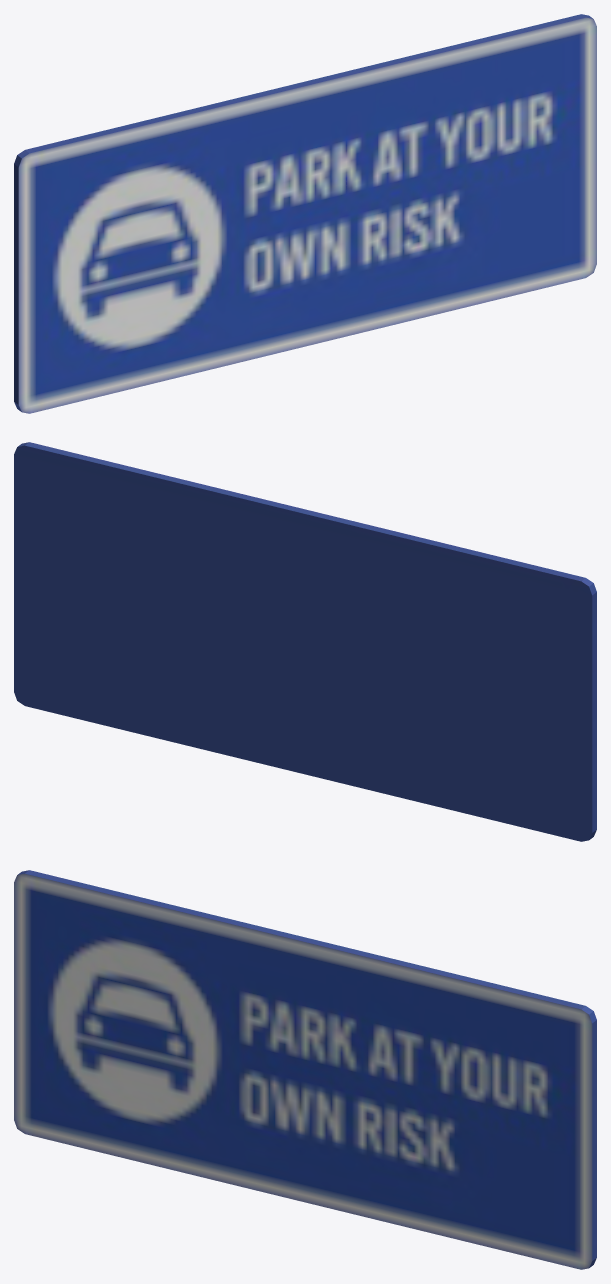
Rendered from Tag_2.fbx.
3 renders of one model, top to bottom at view 1: azimuth 30°, elevation 25°; view 2: azimuth 150°, elevation 25°; view 3: azimuth 330°, elevation 25°, orthographic.
Visible parts, largest first — view 1: Tag_2; view 2: Tag_2; view 3: Tag_2.
Boxes of the visible parts, box(x1,y1,x2,y2) form: Tag_2: box(14, 14, 596, 413); Tag_2: box(14, 442, 596, 841); Tag_2: box(14, 870, 596, 1269).
Bounding box in the file's own units: 0.5819 × 0.2505 × 0.0083.
